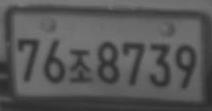3: (149, 42, 171, 86)
6: (43, 40, 66, 83)
7: (16, 38, 39, 82), (122, 41, 145, 85)
8: (97, 41, 119, 84)
9: (174, 43, 197, 88)
조: (69, 48, 92, 84)
